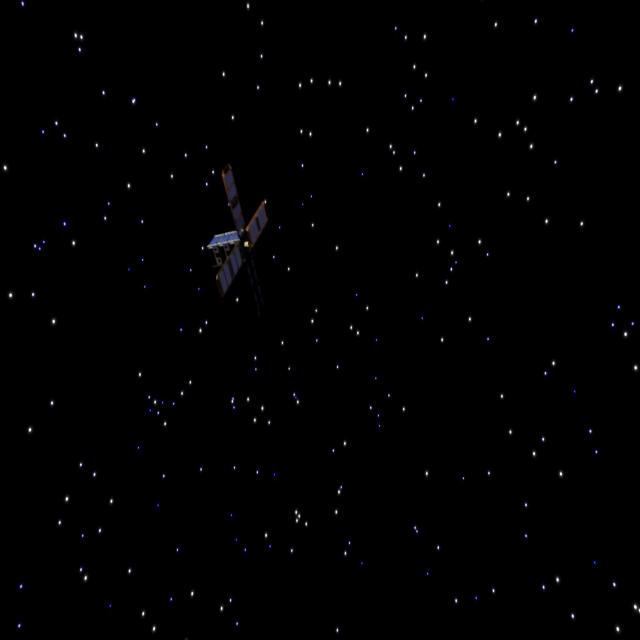satellite: (196, 166, 286, 324)
